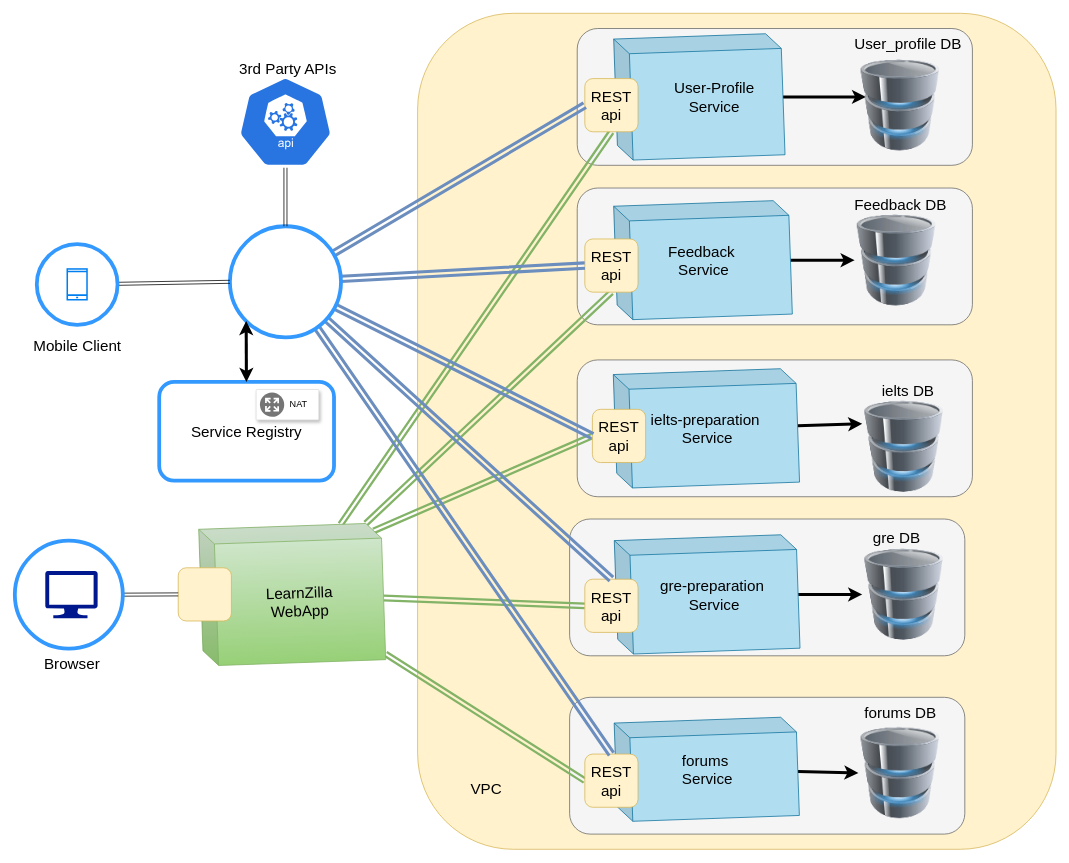
This 1069x863 diagram has some shape labels left out. Here are the shapes that lost their labels. From the top down, the centre of each, then its label:
the point at 285,281: API Gateway
the point at 204,594: WEB
